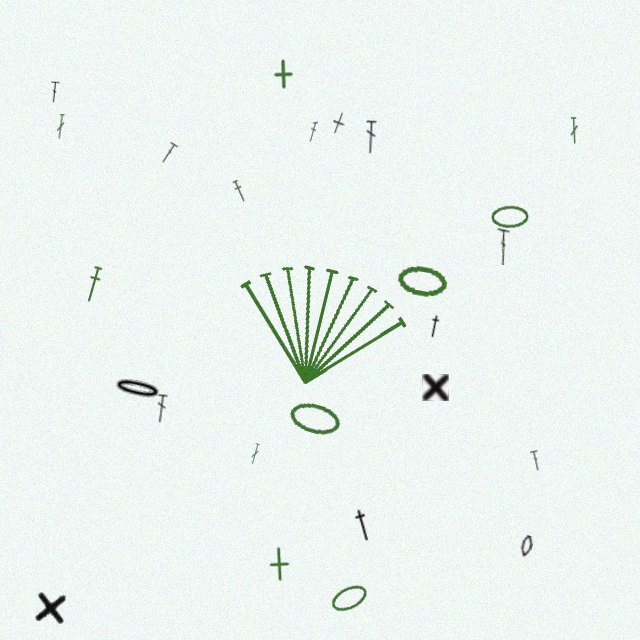chain: (286, 398, 344, 440), (395, 262, 450, 301), (111, 374, 164, 404), (328, 580, 371, 616), (491, 205, 529, 228), (519, 535, 534, 558)
double: (496, 228, 510, 265), (159, 142, 178, 165), (365, 120, 377, 154), (155, 394, 168, 423), (55, 114, 66, 139), (569, 117, 579, 144), (249, 443, 261, 465), (530, 450, 542, 471), (49, 81, 60, 103), (308, 121, 318, 142)
fan: (216, 232, 424, 407)
half_double: (350, 507, 376, 543), (82, 265, 105, 304), (426, 314, 443, 339), (231, 179, 248, 203)
single: (32, 587, 70, 627), (261, 546, 297, 582), (267, 58, 299, 90), (422, 374, 449, 401), (329, 111, 348, 136)
